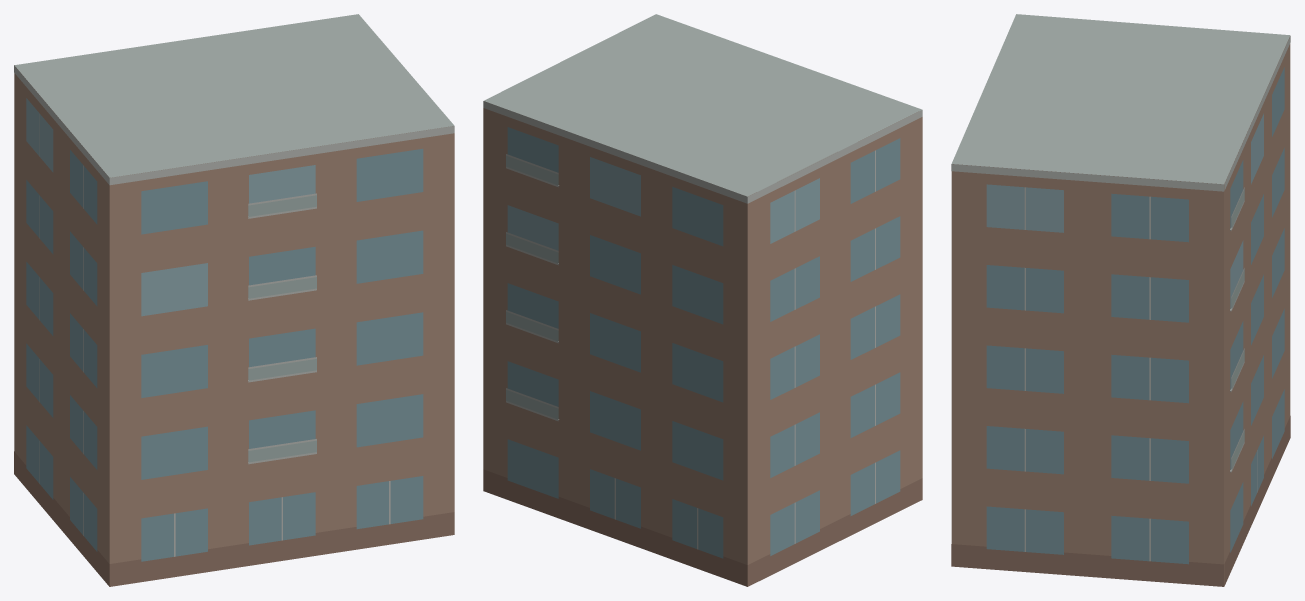
File: survey-upis-32706179.glb
The picture shows the model from 3 angles, left to right: view 1: azimuth 30°, elevation 25°; view 2: azimuth 150°, elevation 25°; view 3: azimuth 270°, elevation 25°; orthographic projection. The views are drawn at different scales.
Parts seen in each view (by area): view 1: survey-upis-32706179.tmp; view 2: survey-upis-32706179.tmp; view 3: survey-upis-32706179.tmp.
Part boxes in pixels (x1=…): survey-upis-32706179.tmp: x1=14, y1=14, x2=454, y2=586; survey-upis-32706179.tmp: x1=483, y1=14, x2=922, y2=586; survey-upis-32706179.tmp: x1=951, y1=14, x2=1290, y2=586.
Bounding box in the file's own units: 12.17 × 13.4 × 10.24.
